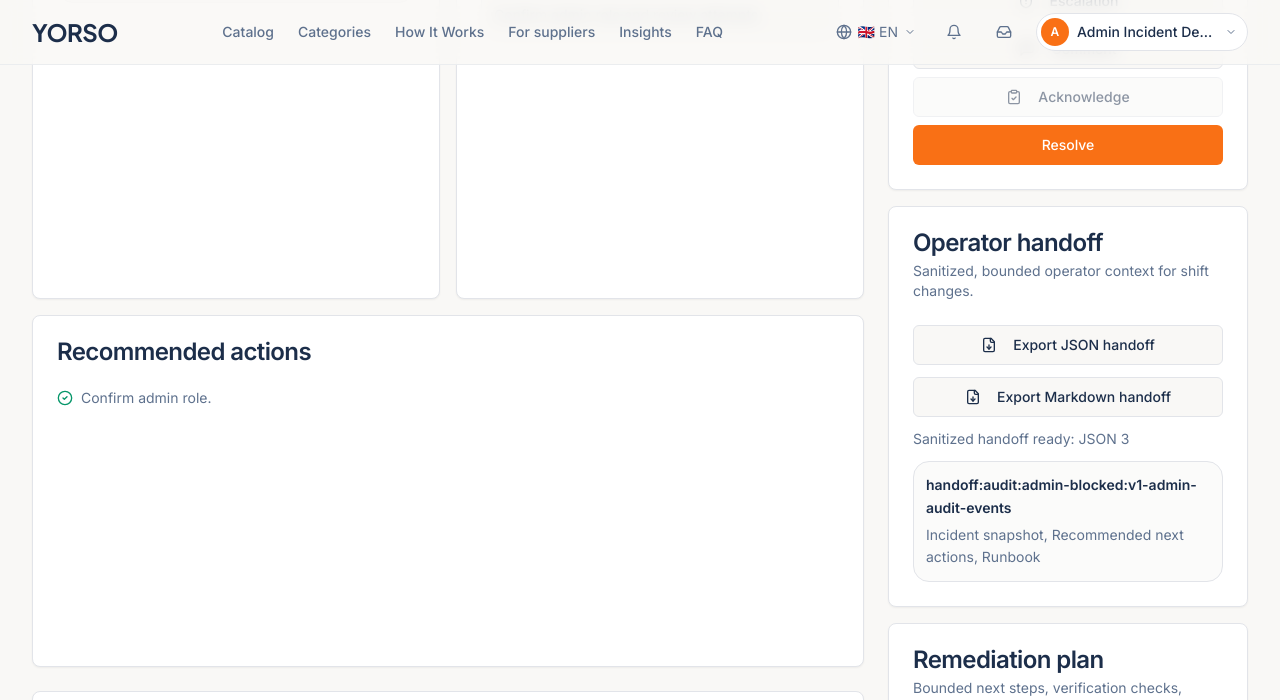
Test: AdminIncidentDetail page › renders detail, workflow and handoff without leaking raw identifiers
The width and height of the screenshot is (1280, 700).
Earlier steps of the test are not shown.
Later steps or results of the test are not shown.
(page scrolled)
Expected: the element with test id "admin-incident-detail-handoff-preview" is shown, x1=913 y1=461 x2=1223 y2=582
Click the button with test id "admin-incident-detail-handoff-markdown" at (1068, 397), box x1=913 y1=377 x2=1223 y2=417
(page scrolled)
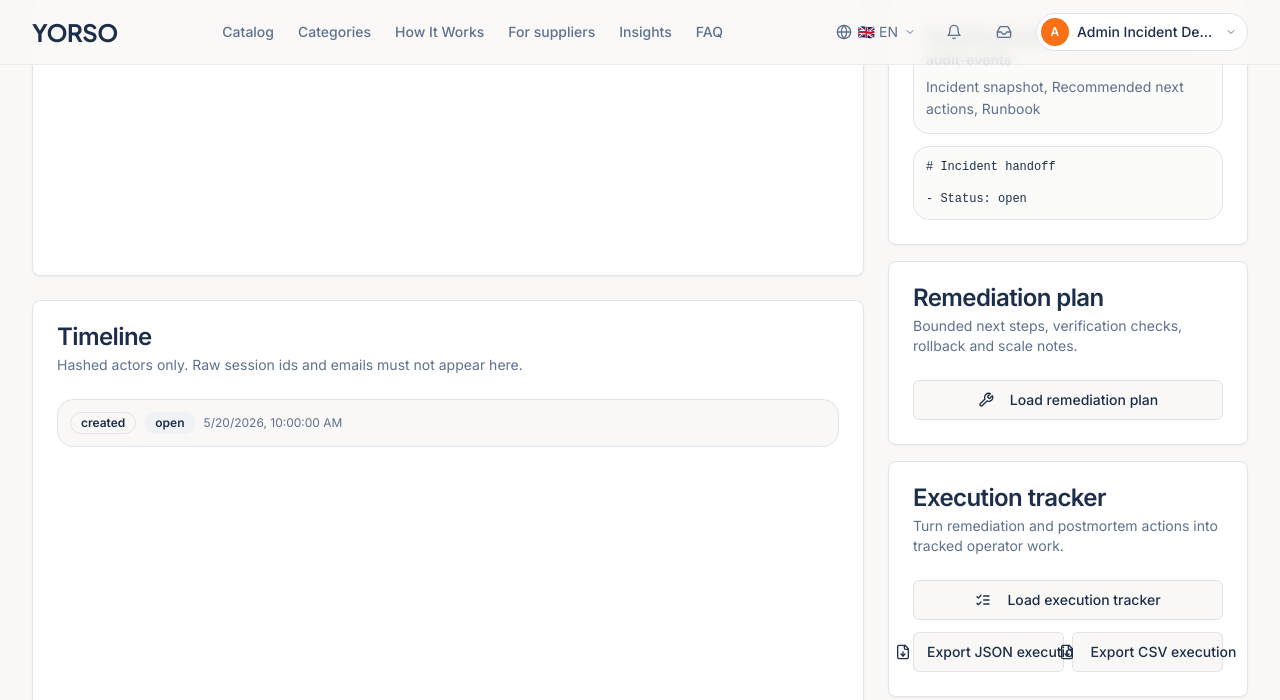
Now the text "# Incident handoff - Status: open" is shown, box x1=913 y1=146 x2=1223 y2=220
Click the button with test id "admin-incident-detail-remediation-load" at (1068, 400), box x1=913 y1=380 x2=1223 y2=420
(page scrolled)
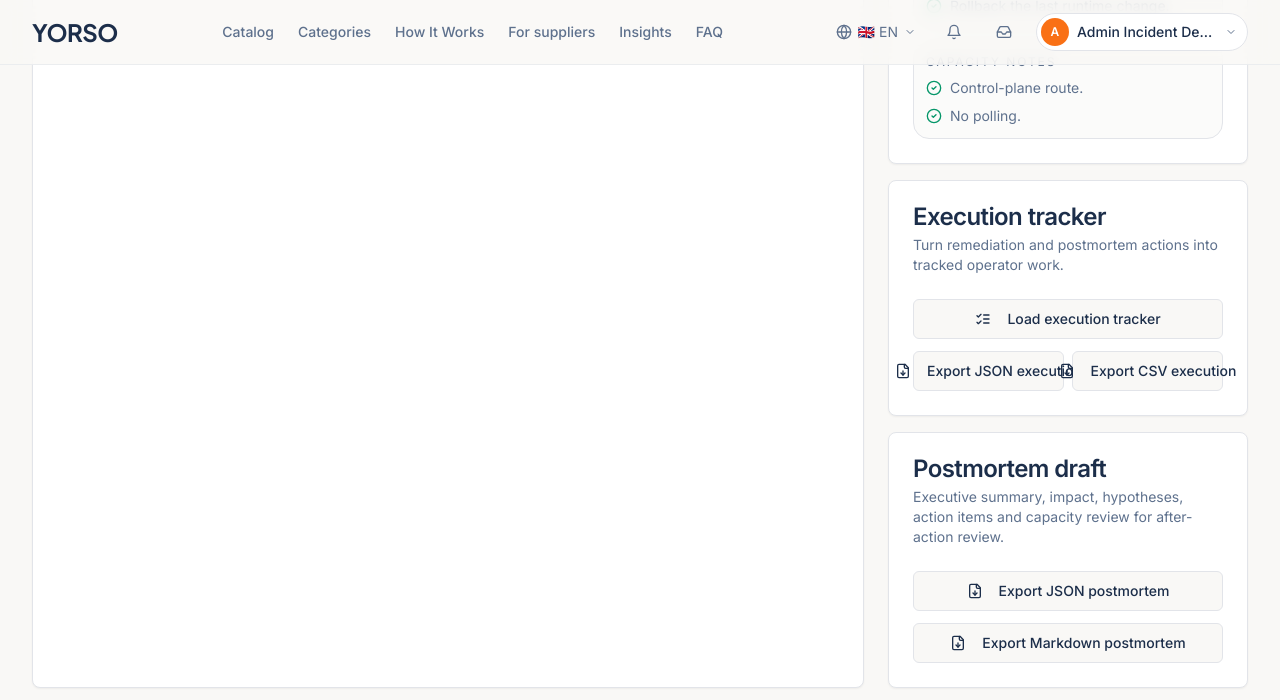
Now the element with test id "admin-incident-detail-remediation-plan" shows "No polling", box x1=950 y1=107 x2=1021 y2=124
Click the button with test id "admin-incident-detail-postmortem-json" at (1068, 591), box x1=913 y1=571 x2=1223 y2=611
(page scrolled)
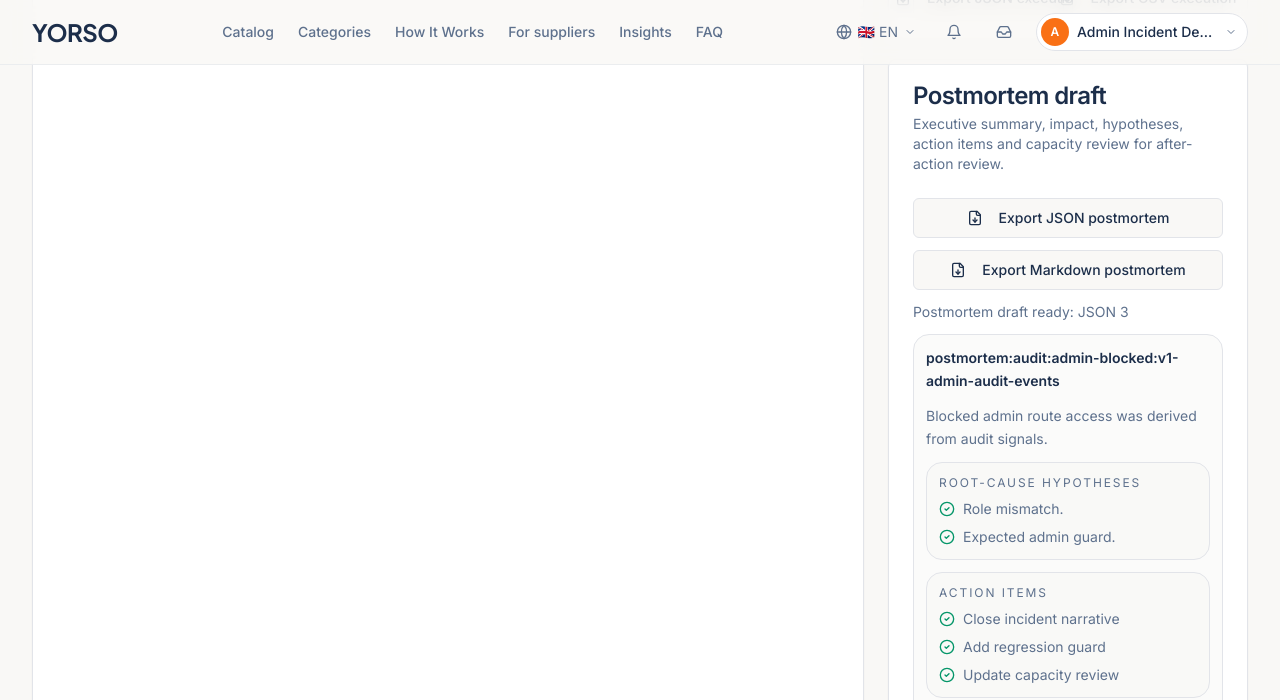
Click the button with test id "admin-incident-detail-postmortem-markdown" at (1068, 270), box x1=913 y1=250 x2=1223 y2=290
(page scrolled)
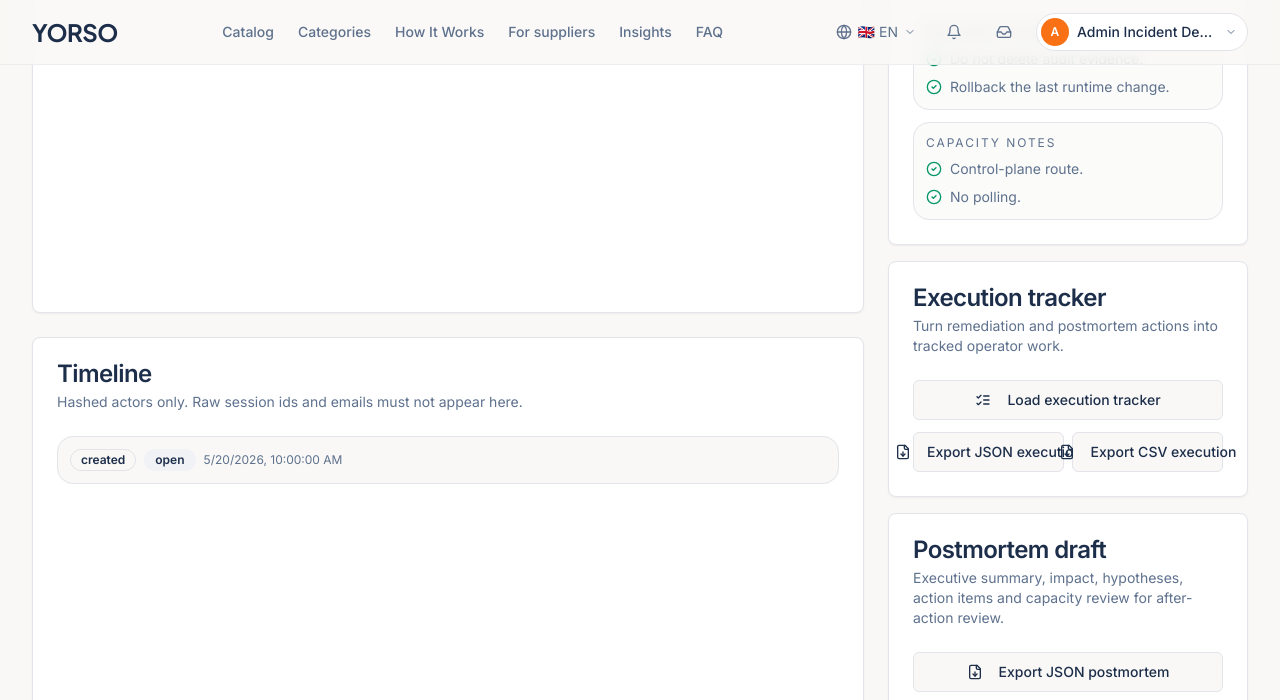
Click the button with test id "admin-incident-detail-execution-load" at (1068, 400), box x1=913 y1=380 x2=1223 y2=420
(page scrolled)
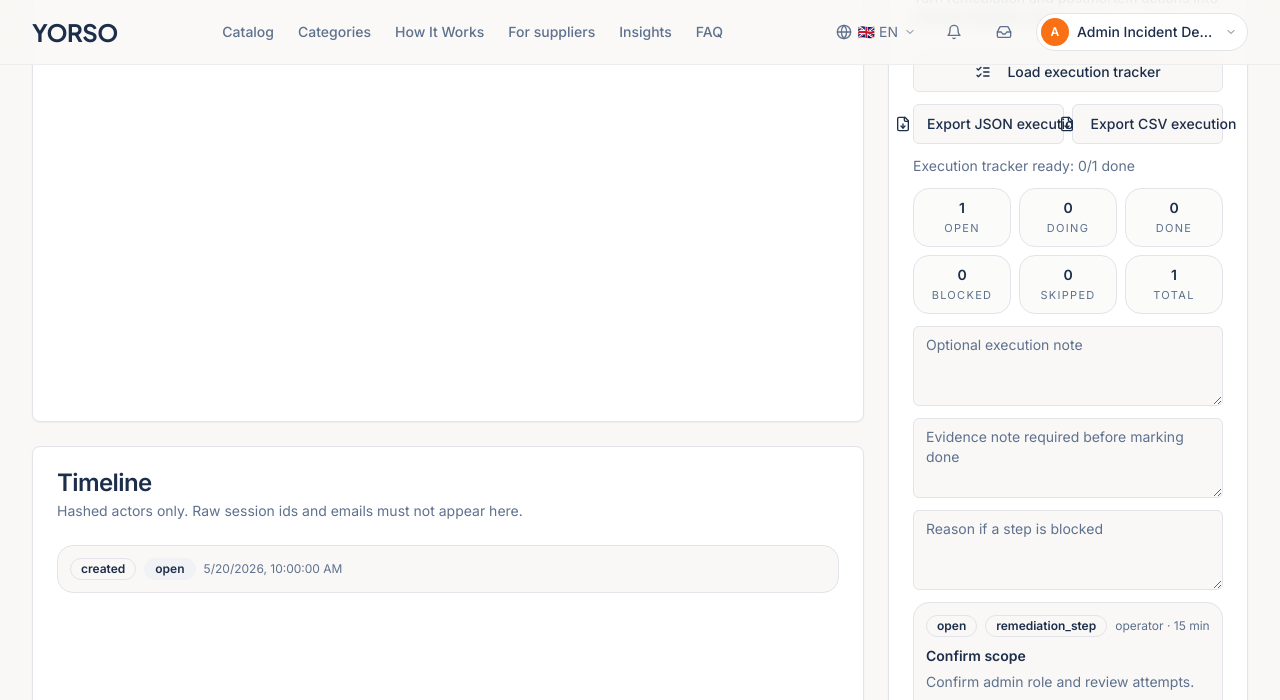
Now the text with test id "admin-incident-detail-execution-status" shows "0/1 done", box x1=1078 y1=157 x2=1135 y2=174
Click the button with test id "admin-incident-detail-execution-json" at (988, 124), box x1=913 y1=104 x2=1064 y2=144
(page scrolled)
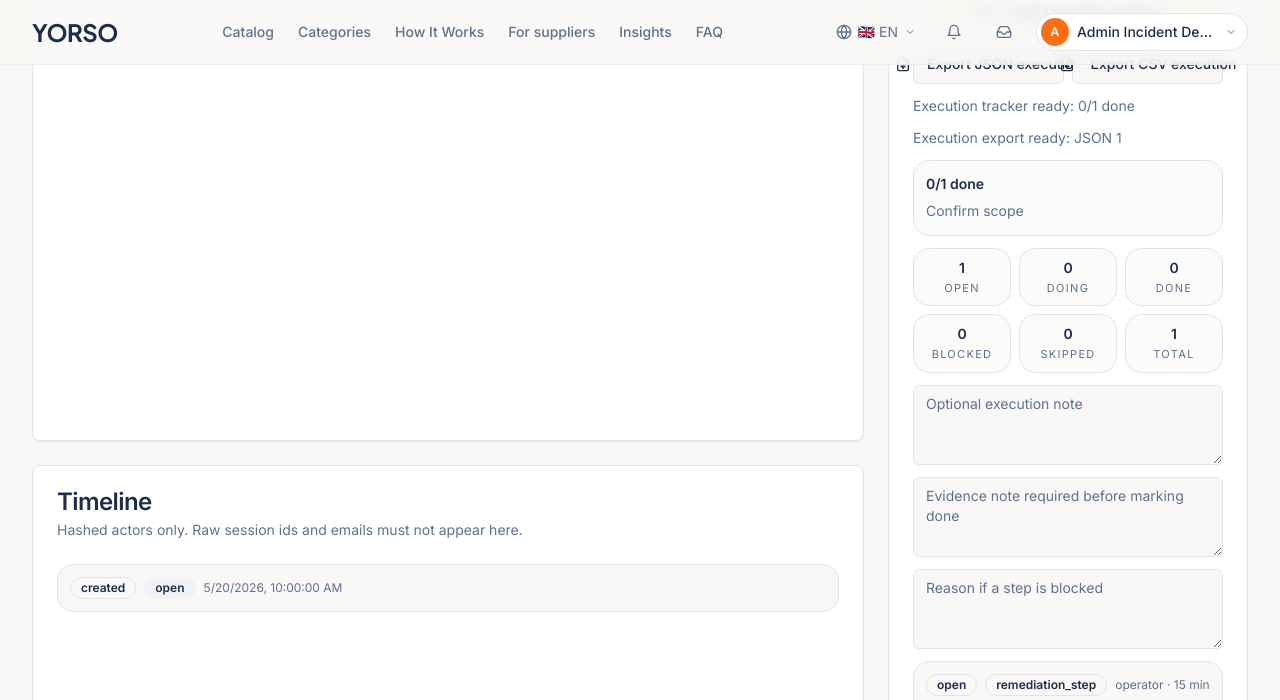
Now the element with test id "admin-incident-detail-execution-export-preview" is shown, box x1=913 y1=160 x2=1223 y2=236
Now the element with test id "admin-incident-detail-execution-export-preview" shows "Confirm scope", box x1=926 y1=202 x2=1024 y2=219
